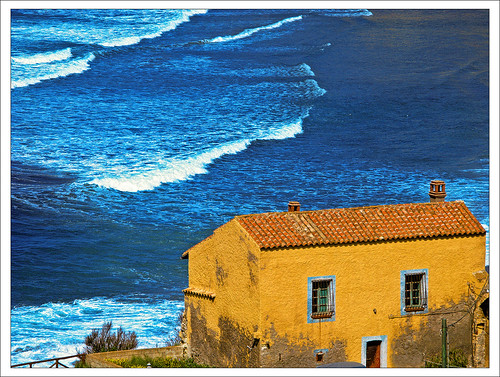low: (180, 179, 491, 366)
